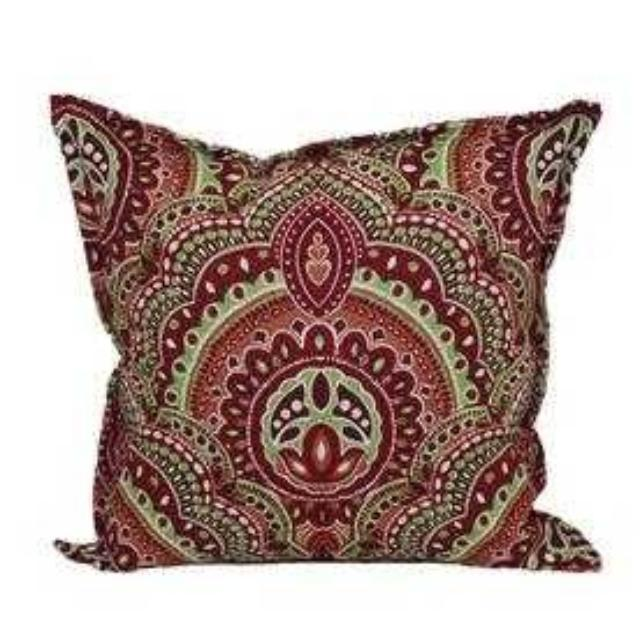pillow: (47, 88, 605, 572)
